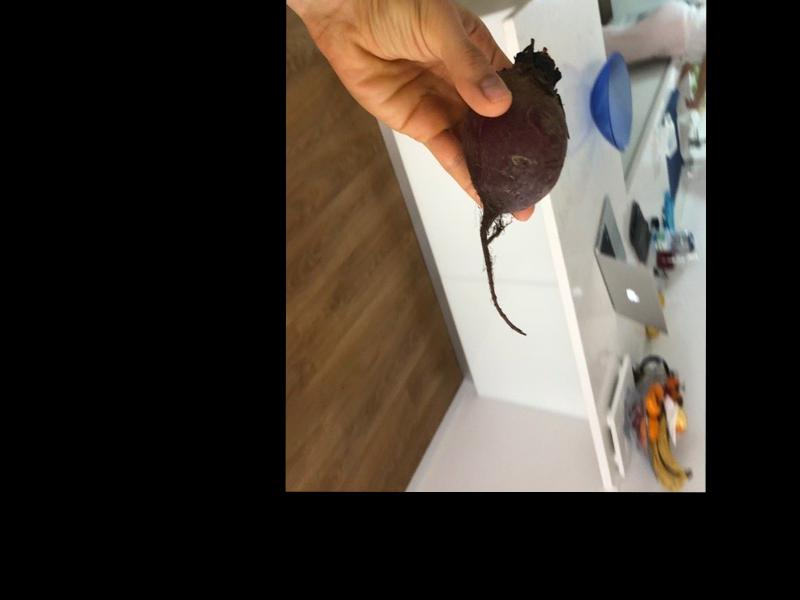Beet: (464, 41, 567, 335)
